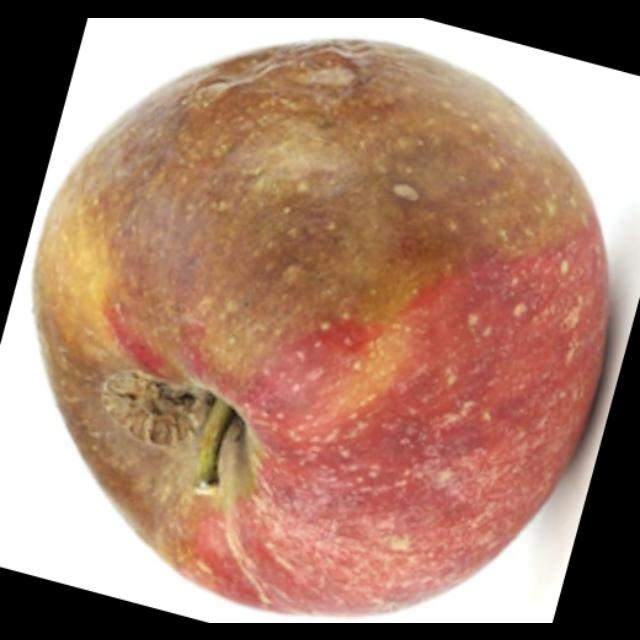Apel Tidak Segar: (33, 33, 612, 617)
